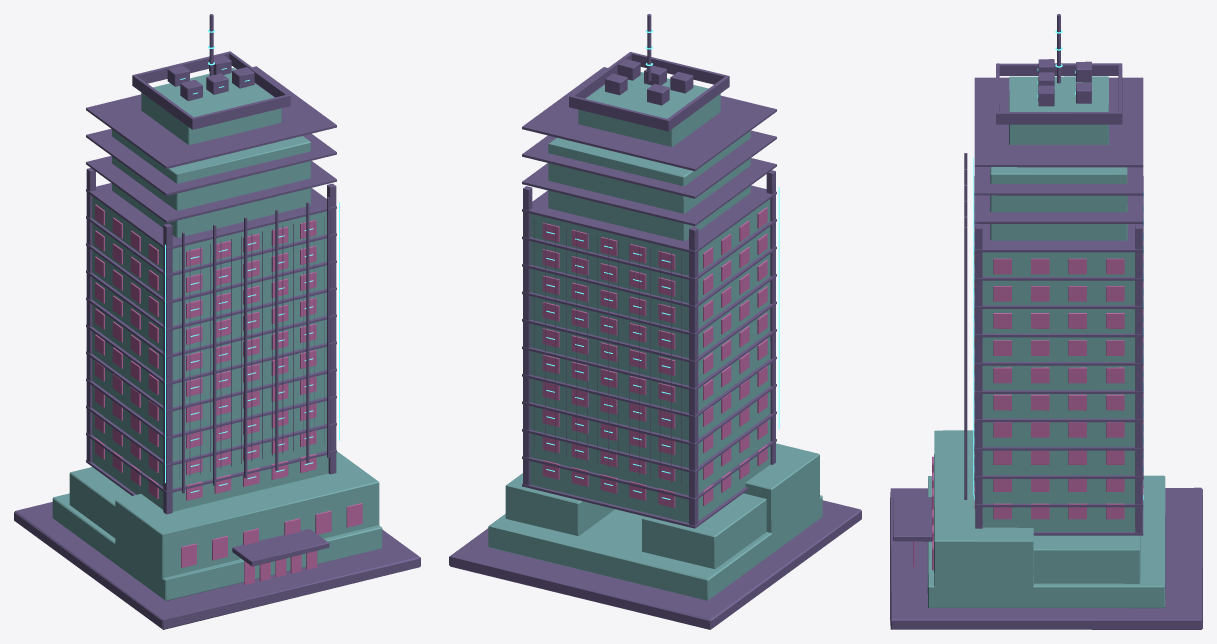
Rendered from env_mobile_landmark_hotel_50m_visual_top3d.glb.
3 renders of one model, left to right at view 1: azimuth 30°, elevation 25°; view 2: azimuth 150°, elevation 25°; view 3: azimuth 270°, elevation 25°, orthographic. The views are drawn at different scales.
Parts seen in each view (by area): view 1: 塔楼主筒_32x26, 南侧裙房, 建筑基座_50x50, 塔楼上段_26x22, 楼层压边带.013, 裙房底座_42x38, 塔楼顶部机房_18x16, 楼层压边带.012, 楼层压边带.011, 楼层压边带.010, 塔楼角部骨架, 西侧裙房 (+22 smaller); view 2: 塔楼主筒_32x26, 建筑基座_50x50, 裙房底座_42x38, 塔楼上段_26x22, 楼层压边带.013, 西侧裙房, 塔楼顶部机房_18x16, 南侧裙房, 楼层压边带.012, 楼层压边带.011, 东侧裙房, 楼层压边带.010 (+17 smaller); view 3: 塔楼主筒_32x26, 建筑基座_50x50, 南侧裙房, 楼层压边带.013, 裙房底座_42x38, 塔楼上段_26x22, 东侧裙房, 塔楼顶部机房_18x16, 楼层压边带.012, 楼层压边带.011, 楼层压边带.010, 塔楼角部骨架.003 (+15 smaller).
Boxes of the visible parts, <box> form: 塔楼主筒_32x26: <box>92,196,328,511</box>; 南侧裙房: <box>115,451,379,578</box>; 建筑基座_50x50: <box>14,502,420,629</box>; 塔楼上段_26x22: <box>112,129,310,237</box>; 楼层压边带.013: <box>86,66,336,168</box>; 裙房底座_42x38: <box>52,493,382,600</box>; 塔楼顶部机房_18x16: <box>141,67,281,144</box>; 楼层压边带.012: <box>86,128,336,195</box>; 楼层压边带.011: <box>86,156,336,223</box>; 楼层压边带.010: <box>86,183,336,250</box>; 塔楼角部骨架: <box>163,223,172,514</box>; 西侧裙房: <box>69,467,131,537</box>; 塔楼主筒_32x26: <box>530,199,770,522</box>; 建筑基座_50x50: <box>449,500,861,629</box>; 裙房底座_42x38: <box>488,495,822,600</box>; 塔楼上段_26x22: <box>548,131,750,240</box>; 楼层压边带.013: <box>522,67,776,171</box>; 西侧裙房: <box>642,493,766,568</box>; 塔楼顶部机房_18x16: <box>578,72,720,146</box>; 南侧裙房: <box>744,443,819,541</box>; 楼层压边带.012: <box>522,130,776,198</box>; 楼层压边带.011: <box>522,158,776,226</box>; 东侧裙房: <box>505,473,614,535</box>; 楼层压边带.010: <box>522,185,776,253</box>; 塔楼主筒_32x26: <box>982,252,1135,531</box>; 建筑基座_50x50: <box>890,487,1202,629</box>; 南侧裙房: <box>934,430,1033,596</box>; 楼层压边带.013: <box>974,77,1143,167</box>; 裙房底座_42x38: <box>927,475,1165,608</box>; 塔楼上段_26x22: <box>990,167,1127,240</box>; 东侧裙房: <box>1033,535,1140,583</box>; 塔楼顶部机房_18x16: <box>1009,76,1108,144</box>; 楼层压边带.012: <box>974,167,1143,195</box>; 楼层压边带.011: <box>974,195,1143,223</box>; 楼层压边带.010: <box>974,223,1143,252</box>; 塔楼角部骨架.003: <box>1135,225,1142,532</box>.
Bounding box in the file's own units: 50 × 97 × 50.
